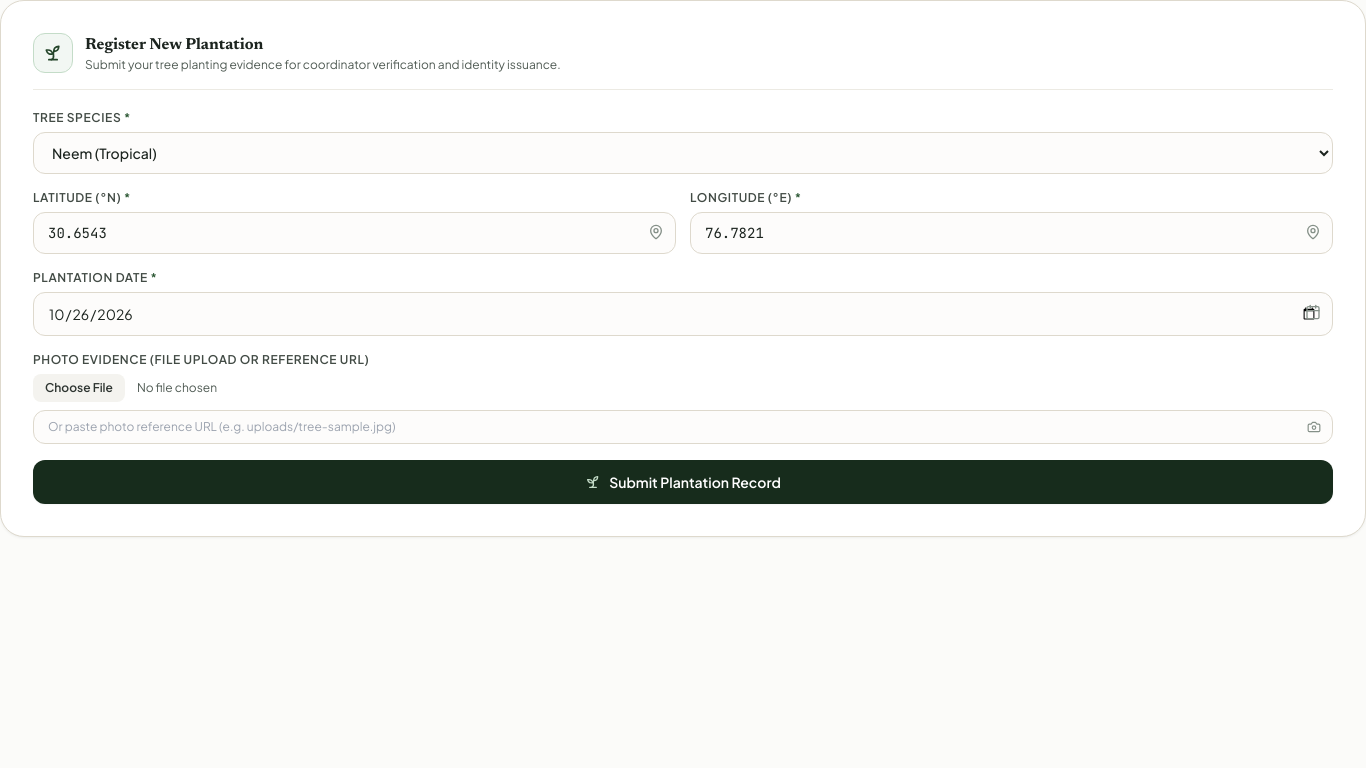
it: Milestone 15 — PlantationForm Component Tests › should validate invalid coordinate boundaries
The width and height of the screenshot is (1366, 768).
Expected: the dropdown with test id "plantation-species-select" is shown, [33, 132, 1333, 174]
Replace the text in the field with test id "plantation-lat-input" with "100.5": (354, 233) [33, 212, 676, 254]
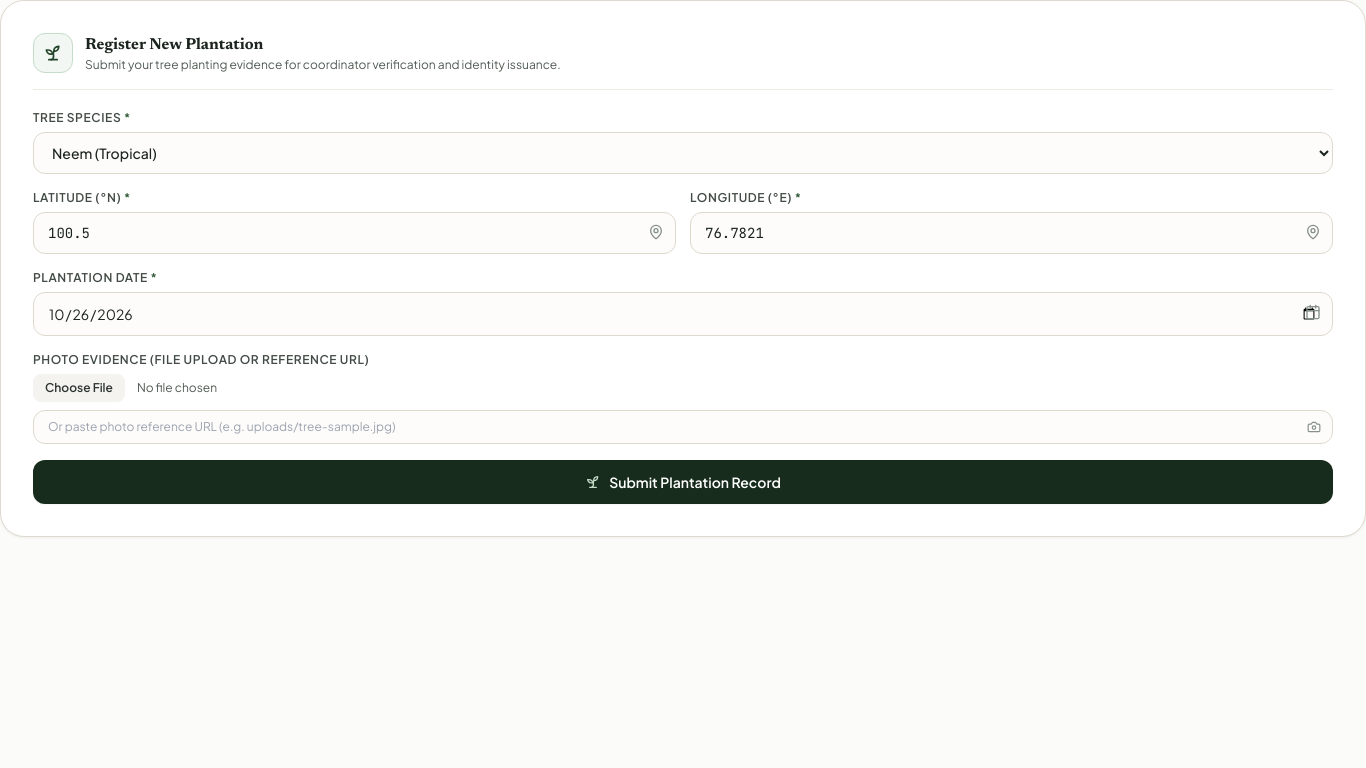
Replace the text in the field with test id "plantation-lng-input" with "-200.0": (1012, 233) [690, 212, 1333, 254]
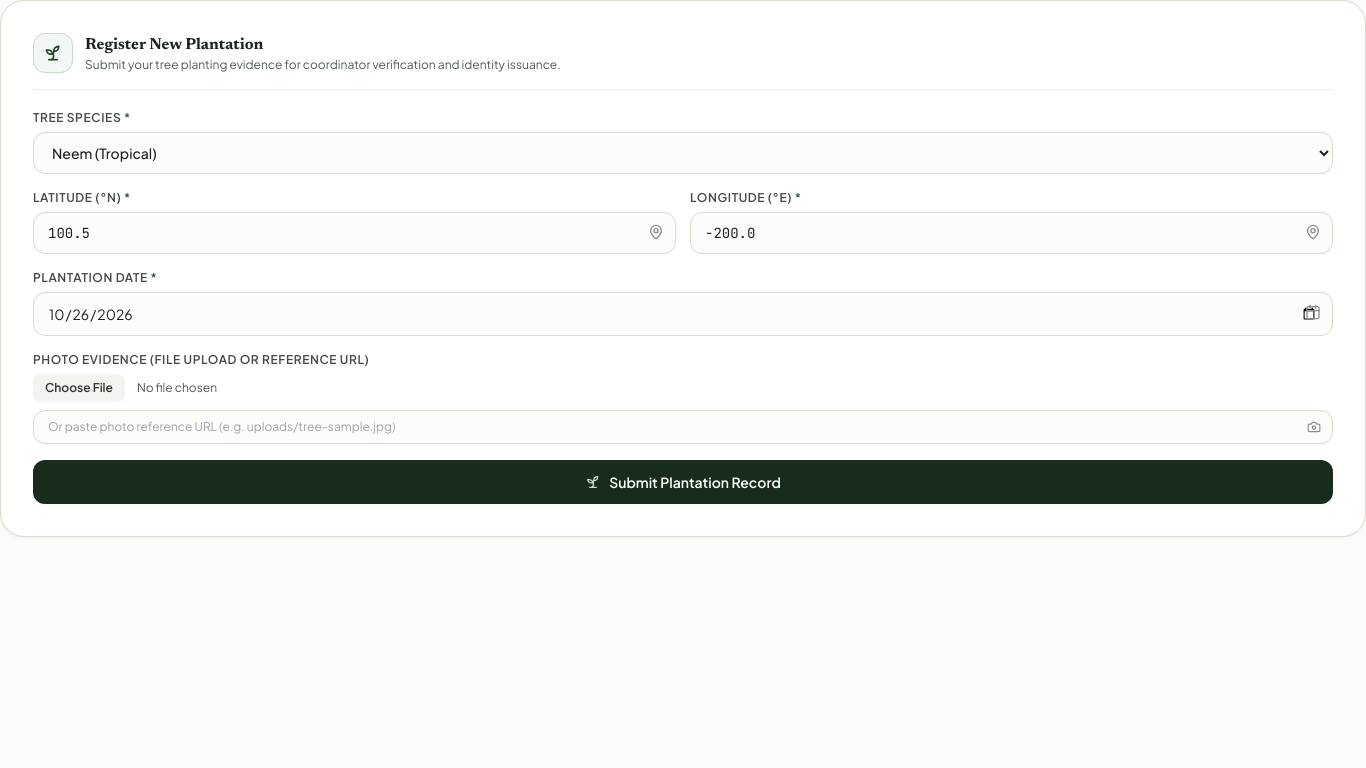
Click the button with test id "submit-plantation-button": (683, 482) [33, 460, 1333, 504]
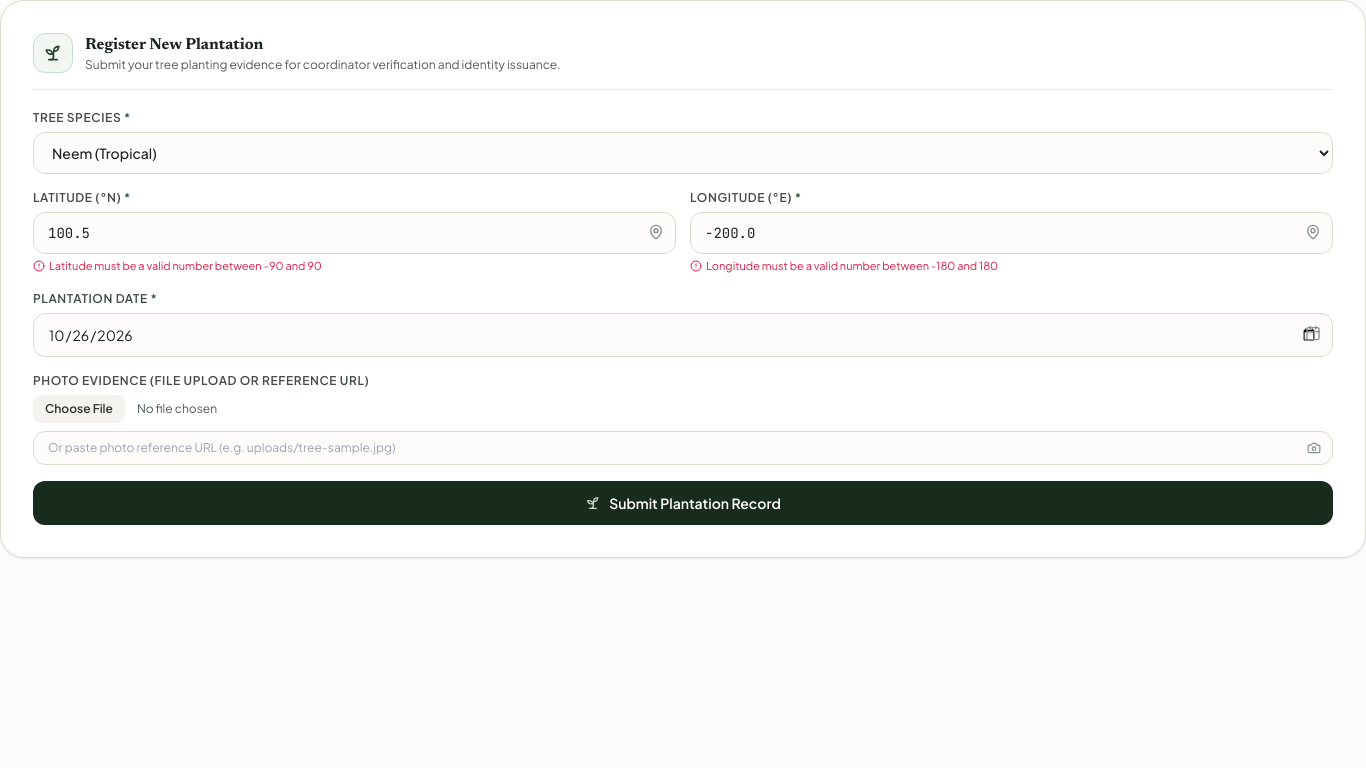
Now the text "Latitude must be a valid number between -90 and 90" is shown, box [33, 259, 322, 272]
Now the text "Longitude must be a valid number between -180 and 180" is shown, box [690, 259, 998, 272]
